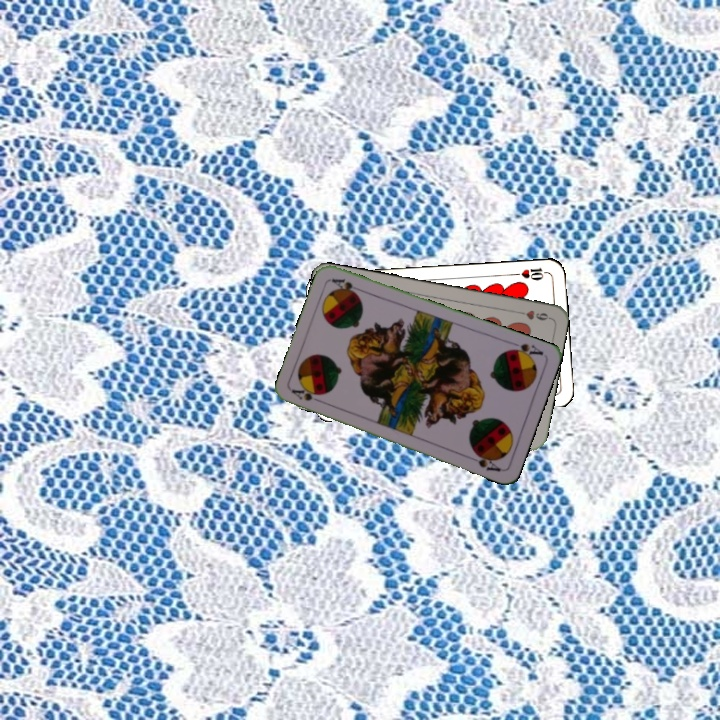H10: (509, 263, 550, 282)
H9: (512, 306, 552, 323)
SA: (504, 338, 546, 362), (288, 385, 328, 406)
